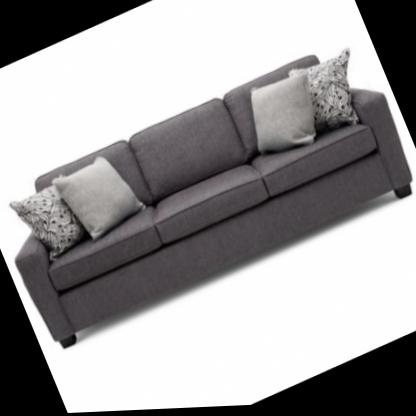Sofa: (0, 31, 416, 358)
